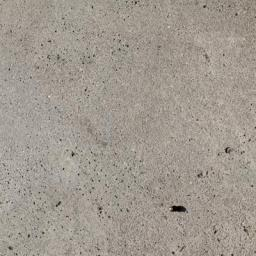FOD: (168, 200, 190, 217)
